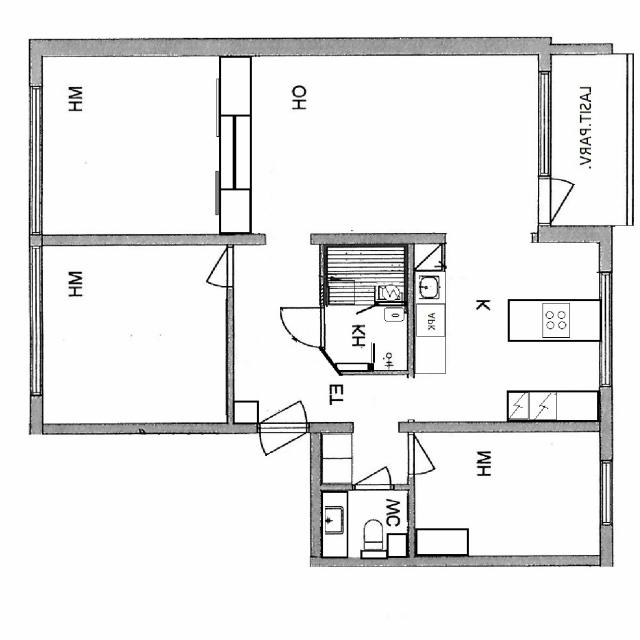door: (539, 178, 599, 223), (260, 379, 306, 434), (260, 423, 306, 478), (408, 434, 457, 474), (186, 248, 233, 287), (281, 308, 326, 346), (354, 449, 391, 490), (354, 303, 376, 327)
